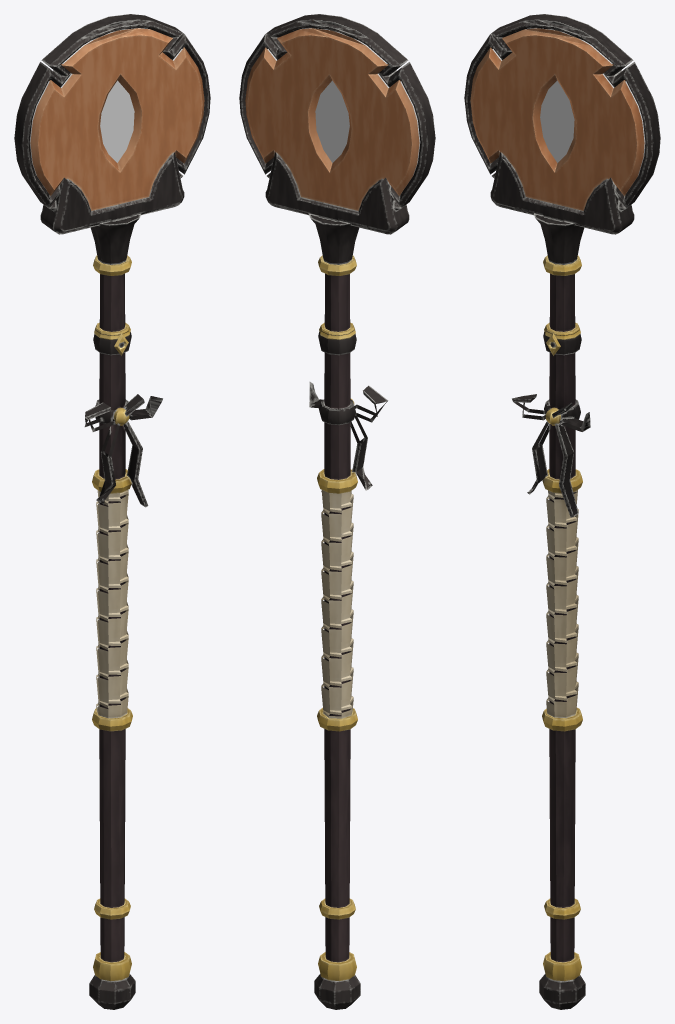
File: Wildcard Staff.fbx
3 views of the same model, side by side, from view 1: azimuth 30°, elevation 25°; view 2: azimuth 150°, elevation 25°; view 3: azimuth 330°, elevation 25° (orthographic).
Visible parts, largest first — view 1: Wildcard Staff_Body, Wildcard Staff_Glow; view 2: Wildcard Staff_Body, Wildcard Staff_Glow; view 3: Wildcard Staff_Body, Wildcard Staff_Glow.
Boxes of the visible parts, x1,y1,x2,y2 form: Wildcard Staff_Body: (14,14,210,1009); Wildcard Staff_Glow: (29,28,182,187); Wildcard Staff_Body: (239,14,435,1009); Wildcard Staff_Glow: (267,28,420,187); Wildcard Staff_Body: (464,14,660,1009); Wildcard Staff_Glow: (492,28,645,188).
Bounding box in the file's own units: 1.19 × 5.98 × 0.3312.
